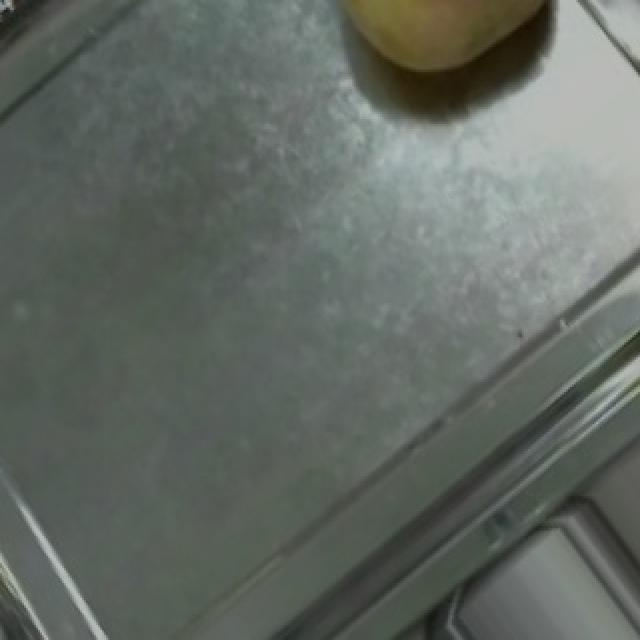Fruit: (298, 0, 578, 109)
